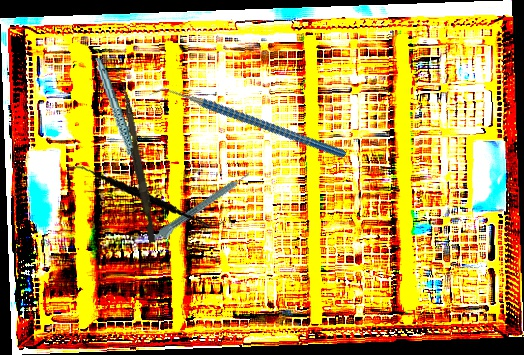Chopper: (148, 32, 347, 216)
Handpiece: (151, 170, 254, 246), (95, 55, 140, 179)
Pusher: (116, 86, 160, 243)
Spatula Surgical: (66, 144, 225, 247)
